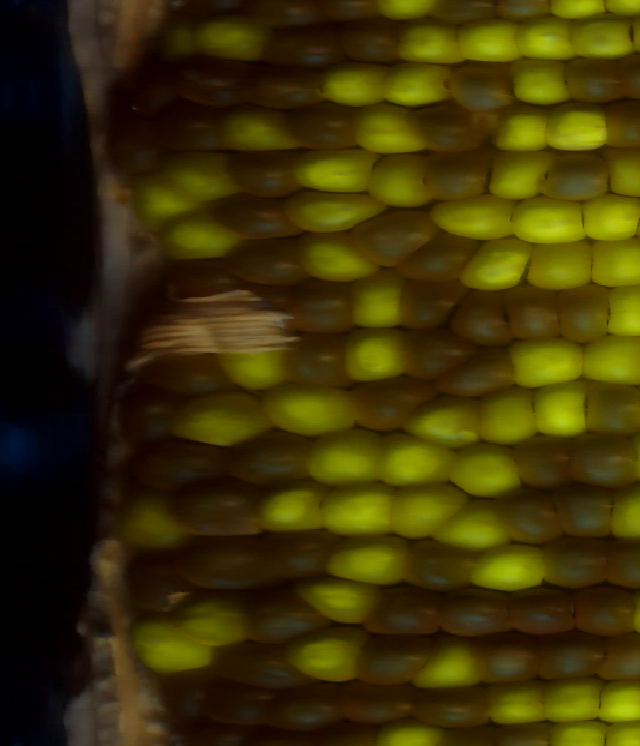fluorescent: (171, 392, 275, 449), (308, 425, 393, 487), (294, 572, 377, 633), (329, 535, 418, 591), (402, 392, 486, 450), (317, 480, 398, 540), (386, 480, 467, 539), (377, 429, 455, 490), (135, 617, 213, 677), (263, 386, 363, 432), (288, 627, 370, 682), (297, 232, 382, 285), (517, 238, 598, 291), (284, 185, 386, 227), (508, 195, 591, 246), (450, 441, 524, 498), (470, 540, 551, 592), (460, 234, 531, 293), (426, 196, 520, 240), (505, 332, 583, 385), (293, 146, 375, 196), (435, 498, 513, 550), (417, 630, 482, 691), (220, 98, 291, 153), (368, 149, 434, 208), (117, 496, 184, 553), (350, 103, 429, 151), (176, 597, 246, 651), (167, 148, 238, 201), (481, 383, 540, 446), (397, 16, 465, 70), (131, 174, 204, 223), (161, 212, 236, 259), (546, 101, 612, 154), (376, 61, 451, 107), (568, 11, 635, 62), (579, 335, 640, 391), (189, 18, 263, 64), (319, 61, 391, 108), (529, 382, 592, 435), (262, 480, 325, 533), (491, 101, 552, 155), (349, 271, 404, 328), (489, 148, 547, 202), (345, 328, 404, 381), (455, 18, 521, 65), (576, 192, 640, 240), (515, 56, 572, 108), (218, 346, 288, 388), (587, 237, 640, 290), (484, 681, 547, 725), (546, 675, 603, 722), (518, 16, 575, 62), (603, 281, 640, 338), (594, 680, 640, 725), (605, 148, 640, 201)
nonfluorescent: (168, 476, 267, 543), (173, 533, 270, 598), (225, 424, 312, 485), (130, 437, 225, 491), (365, 580, 444, 643), (355, 208, 439, 267), (219, 639, 308, 693), (172, 56, 256, 113), (247, 588, 330, 645), (209, 191, 299, 243), (224, 145, 304, 203), (400, 538, 478, 596), (354, 628, 430, 687), (275, 277, 355, 333), (146, 350, 231, 402), (263, 20, 342, 75), (498, 486, 571, 545), (223, 235, 307, 286), (349, 374, 425, 429), (508, 578, 578, 637), (567, 434, 640, 490), (282, 325, 349, 386), (410, 102, 493, 151), (509, 432, 579, 490), (503, 281, 566, 345), (446, 62, 519, 117), (473, 629, 542, 687), (335, 676, 418, 724), (436, 586, 514, 637), (266, 528, 338, 583), (440, 348, 518, 398), (394, 233, 475, 281), (287, 99, 361, 151), (404, 324, 470, 380), (544, 538, 615, 590), (568, 583, 639, 635), (538, 630, 609, 682), (538, 151, 614, 199), (152, 102, 223, 153), (424, 150, 491, 204), (254, 62, 326, 112), (555, 478, 614, 539), (418, 678, 491, 727), (458, 287, 513, 350), (160, 665, 215, 728), (126, 554, 181, 616), (283, 676, 345, 730), (404, 275, 467, 328), (560, 283, 613, 346), (584, 376, 640, 434), (210, 680, 276, 729), (565, 55, 625, 107), (338, 16, 400, 65), (600, 99, 640, 150), (594, 633, 640, 677), (604, 535, 640, 590)
